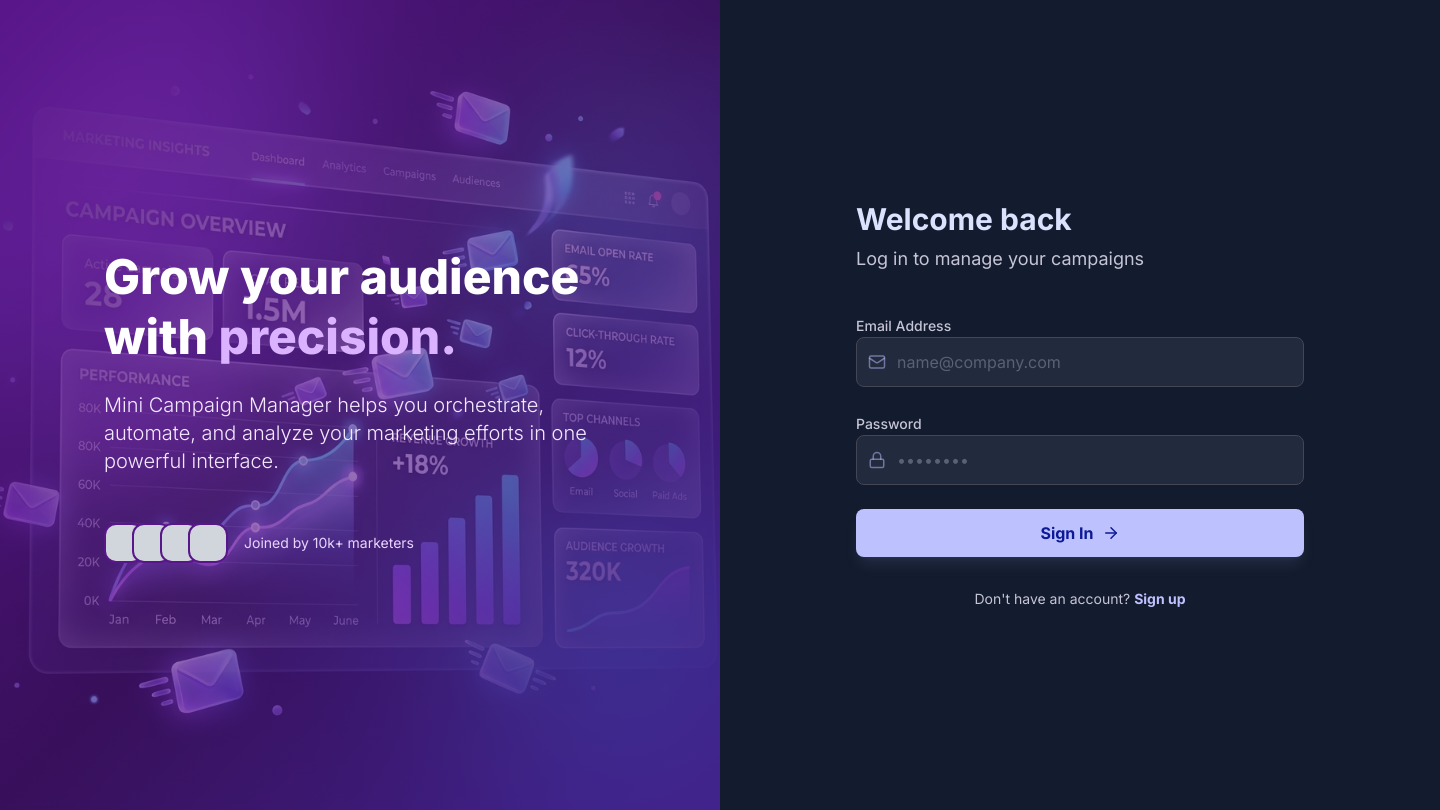
Engineering Verification: Gold Standard Matrix › P1: Login Page (Interactions & Boundaries) › Boundary: Handles Invalid Credentials (401) with error feedback
The width and height of the screenshot is (1440, 810).
Step 1. Type "wrong@example.com" into the field with placeholder "name@company.com" → (1080, 362), box [856,337,1304,387]
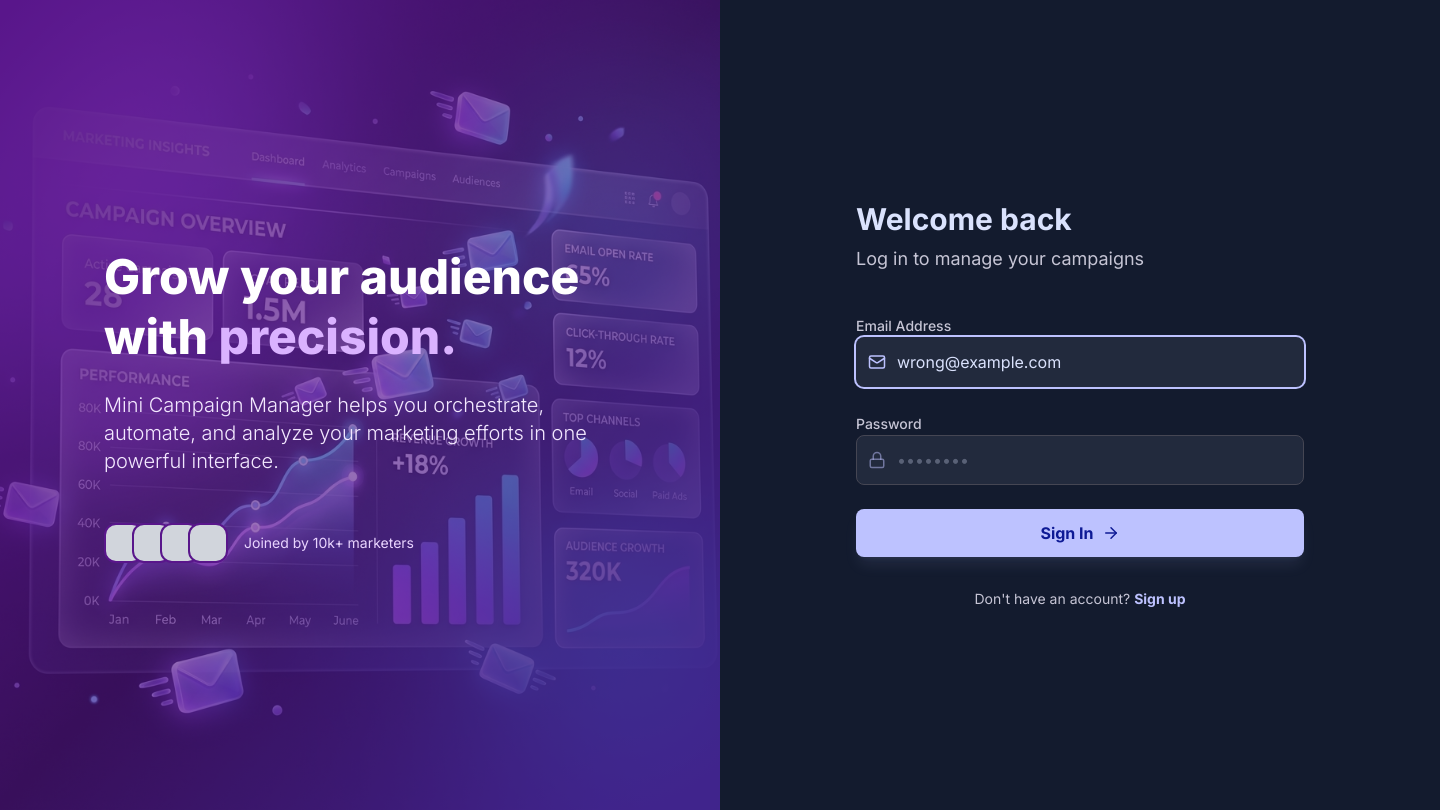
Step 2. Type "wrongpass" into the password field with placeholder "••••••••" → (1080, 460), box [856,435,1304,485]
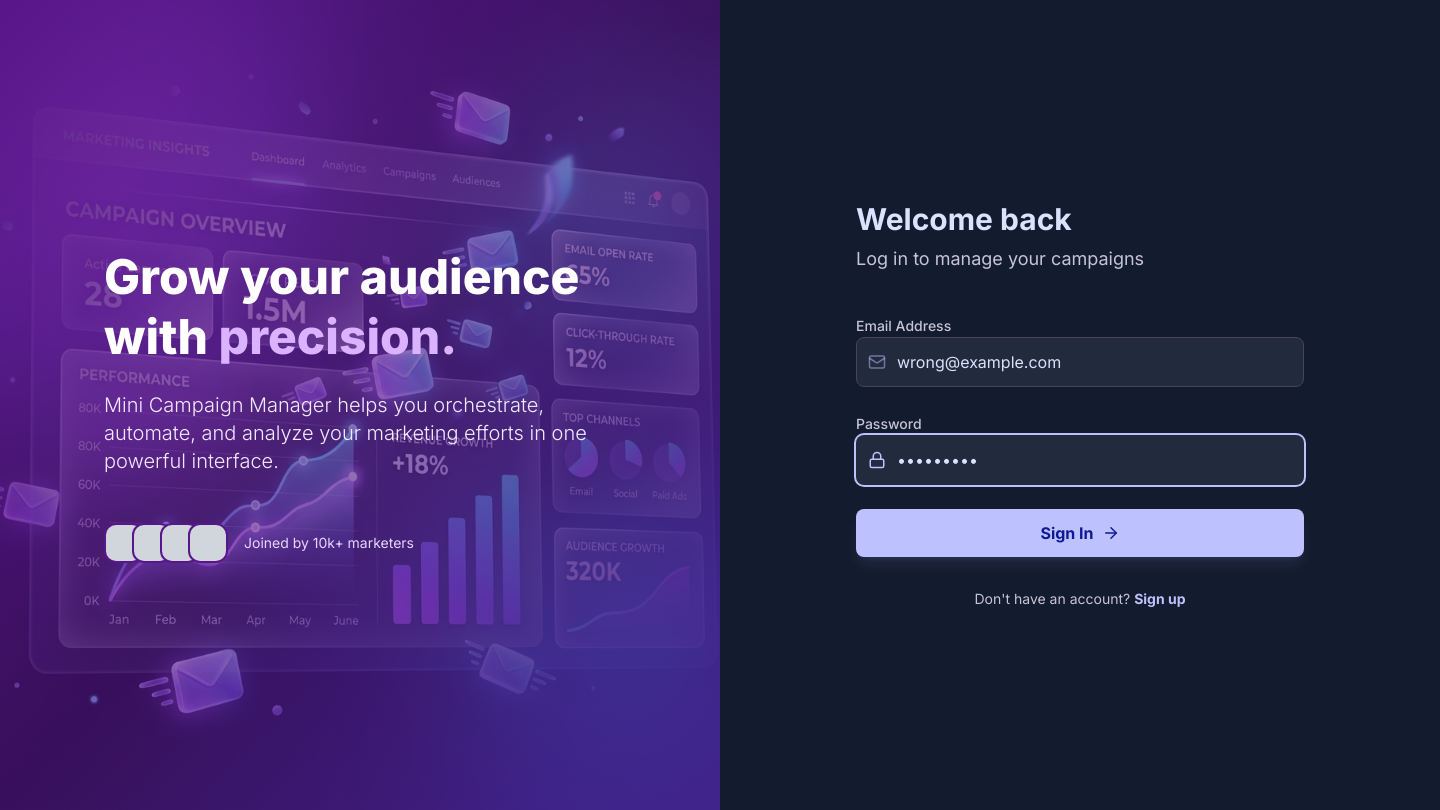
Step 3. Click the button "Sign In" → click(1080, 533), box [856,509,1304,557]
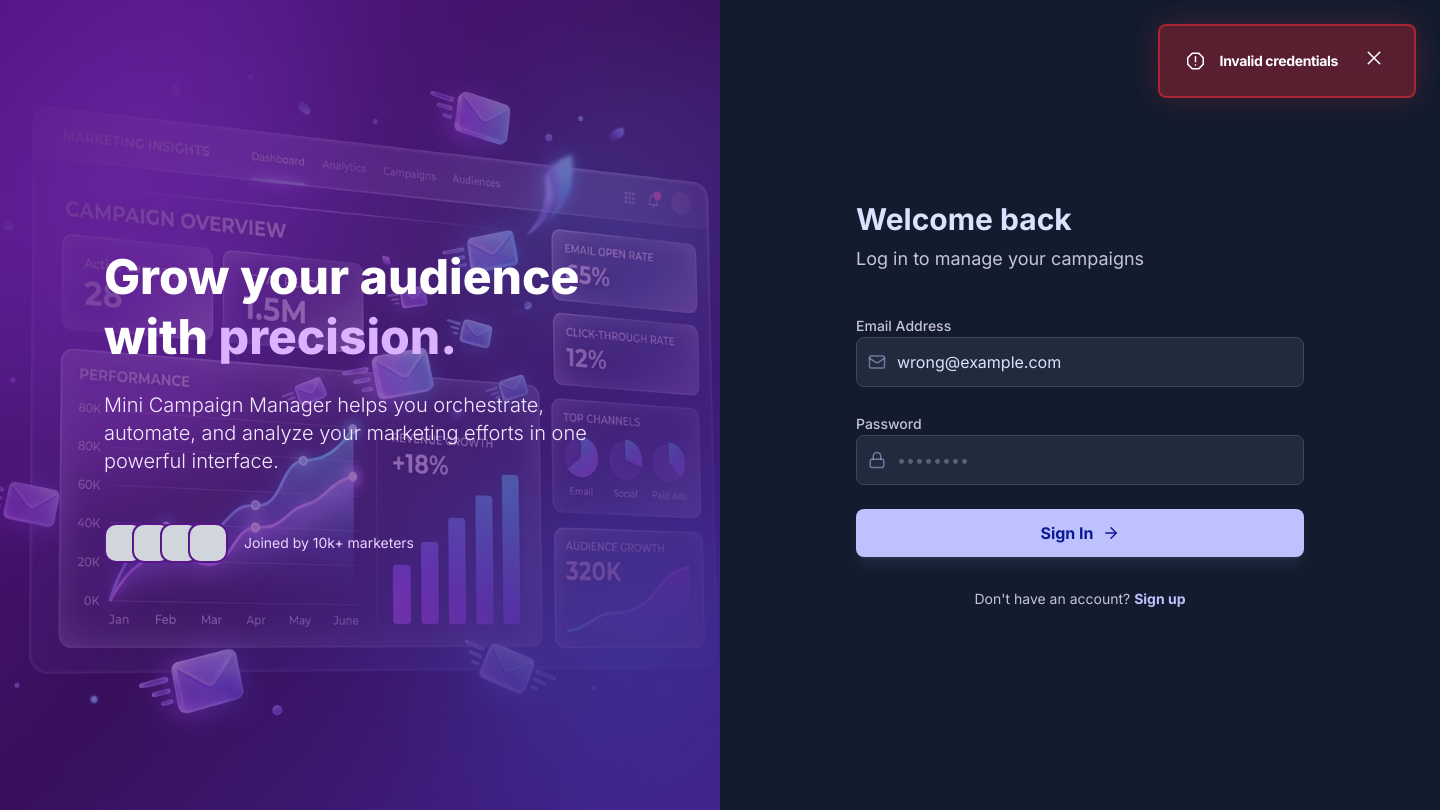
Check: the text "Invalid credentials" is shown, box [1220,51,1338,71]
